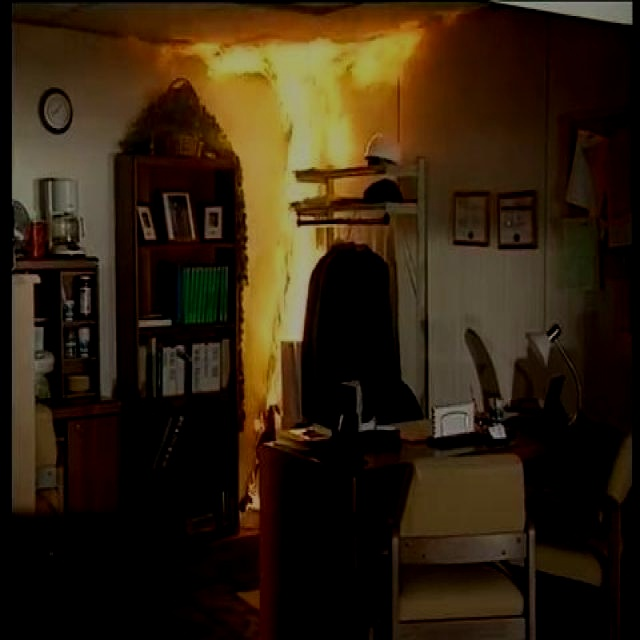fire: (202, 26, 394, 196)
